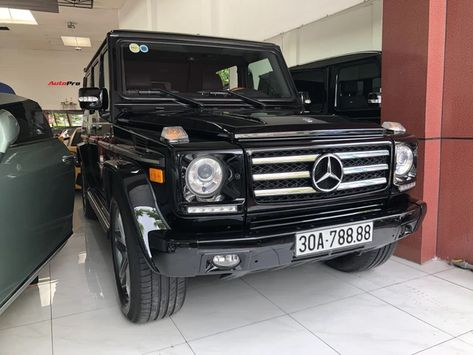number-plate: (295, 223, 371, 253)
